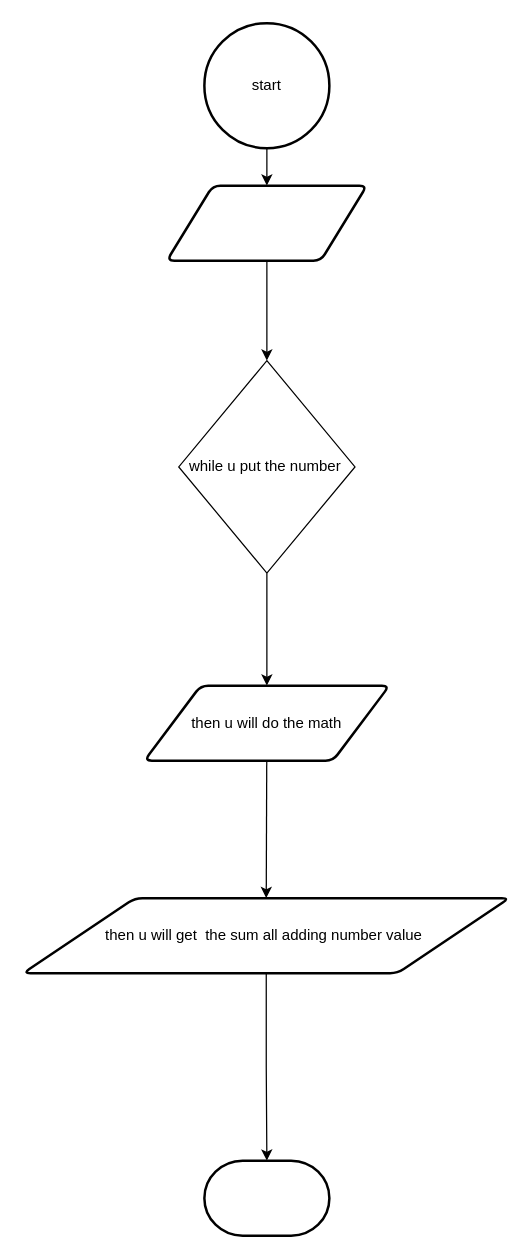
Image size: 531x1258. Some labels were removed from this diagram. Each missing label, with the box of its shape:
Get number_of_user: (165, 184, 368, 261)
stop: (202, 1159, 330, 1236)
